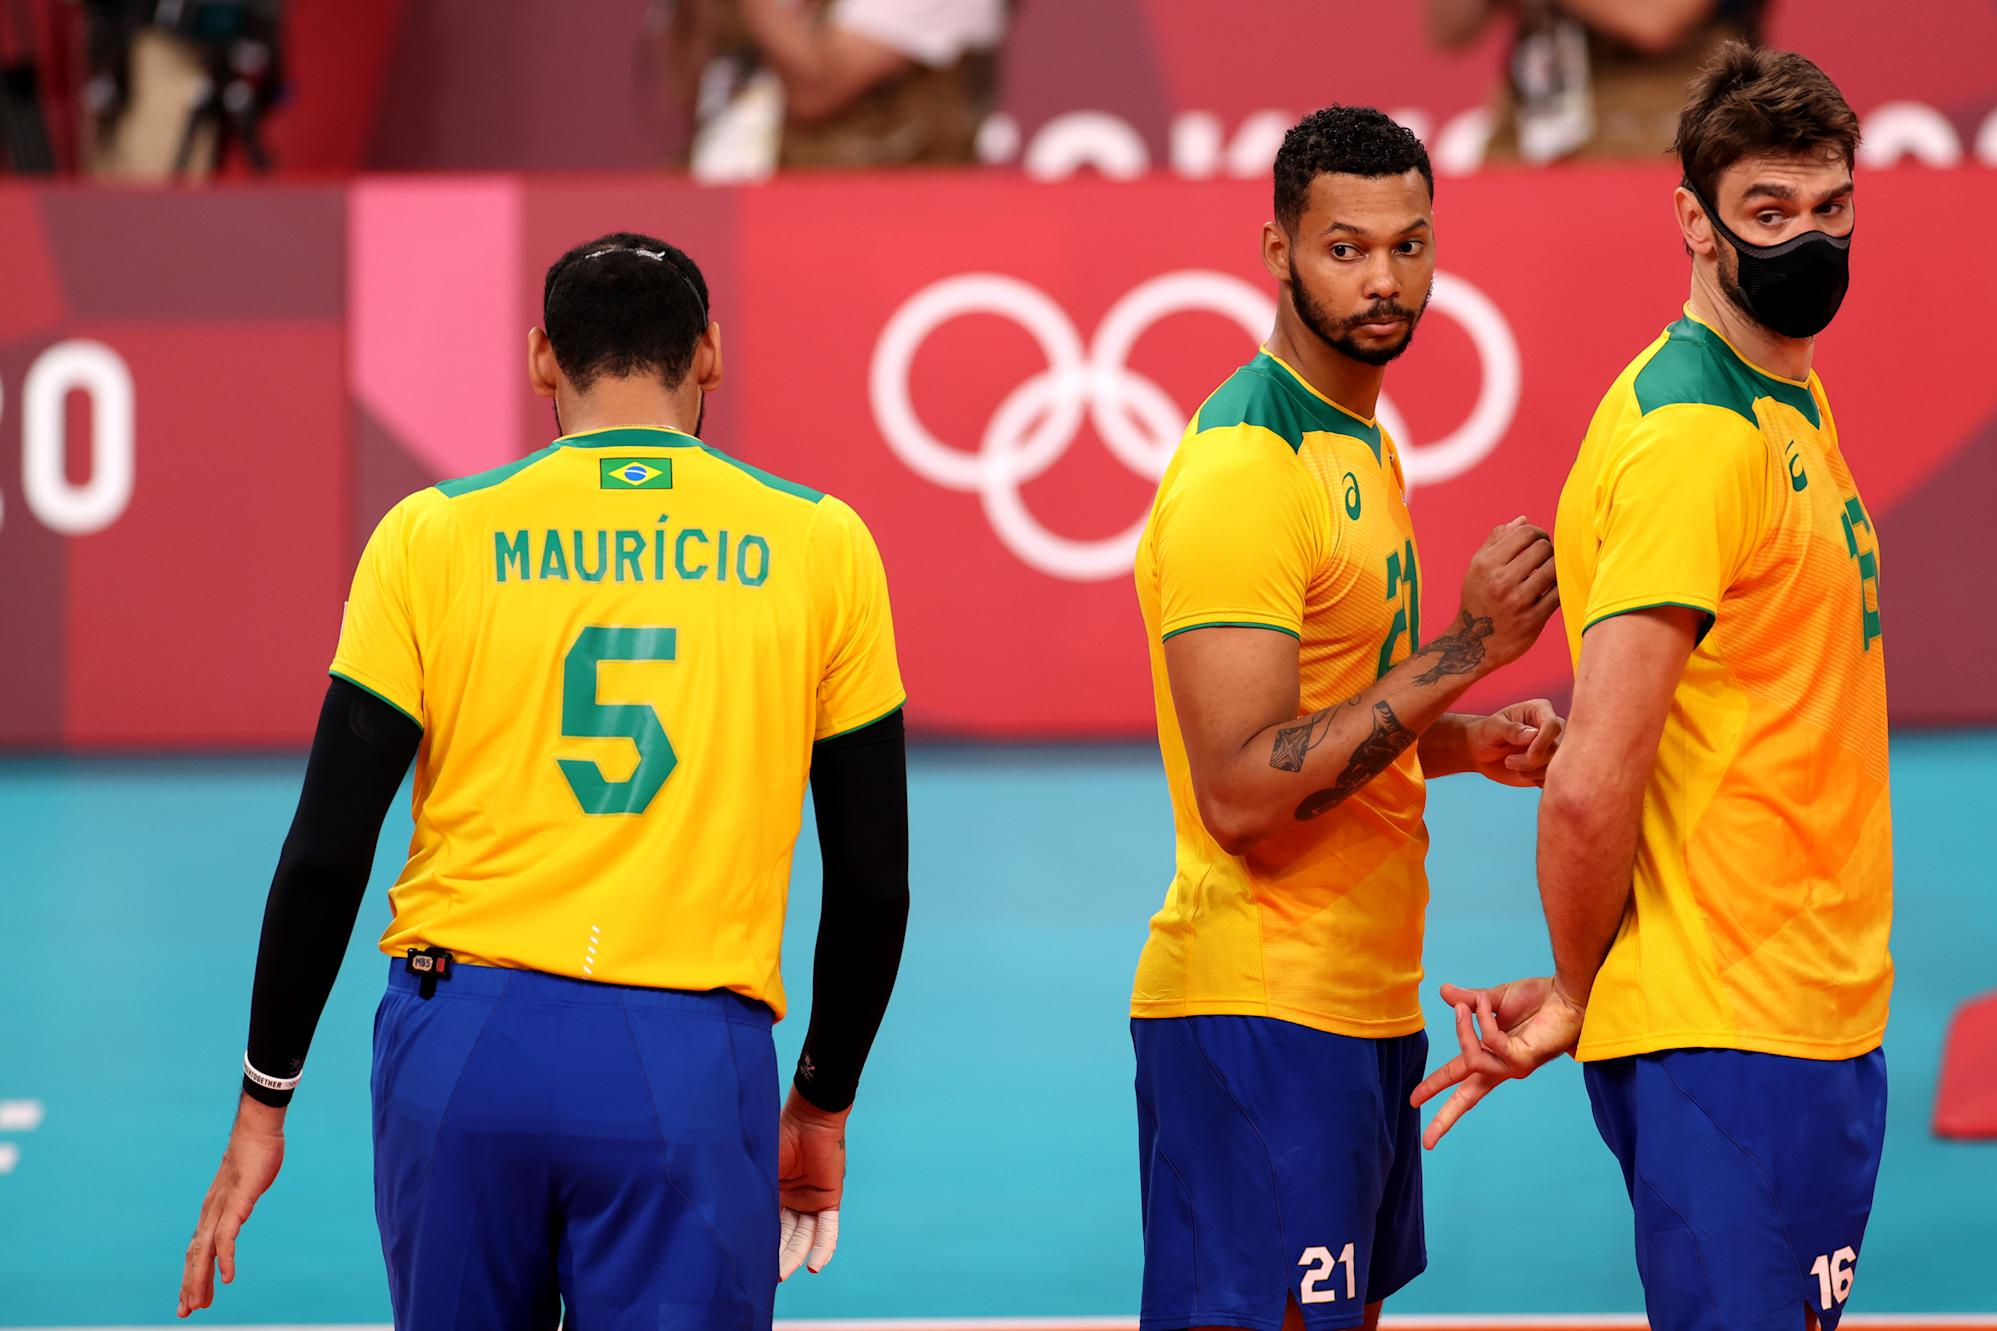with_mask: (1737, 154, 1856, 303)
without_mask: (1314, 193, 1433, 343)
